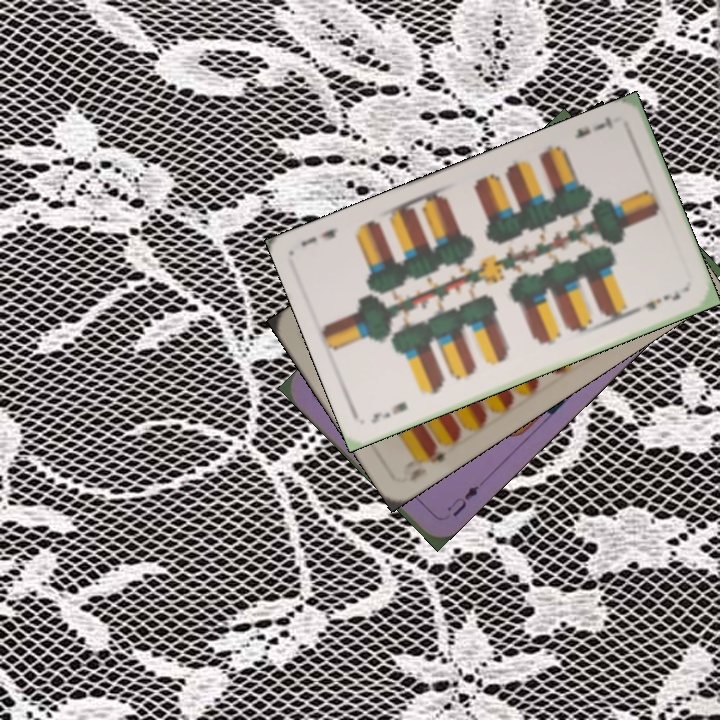E10: (416, 441, 448, 470)
E7: (570, 112, 616, 142), (367, 397, 410, 426)
EU: (443, 481, 482, 520)
